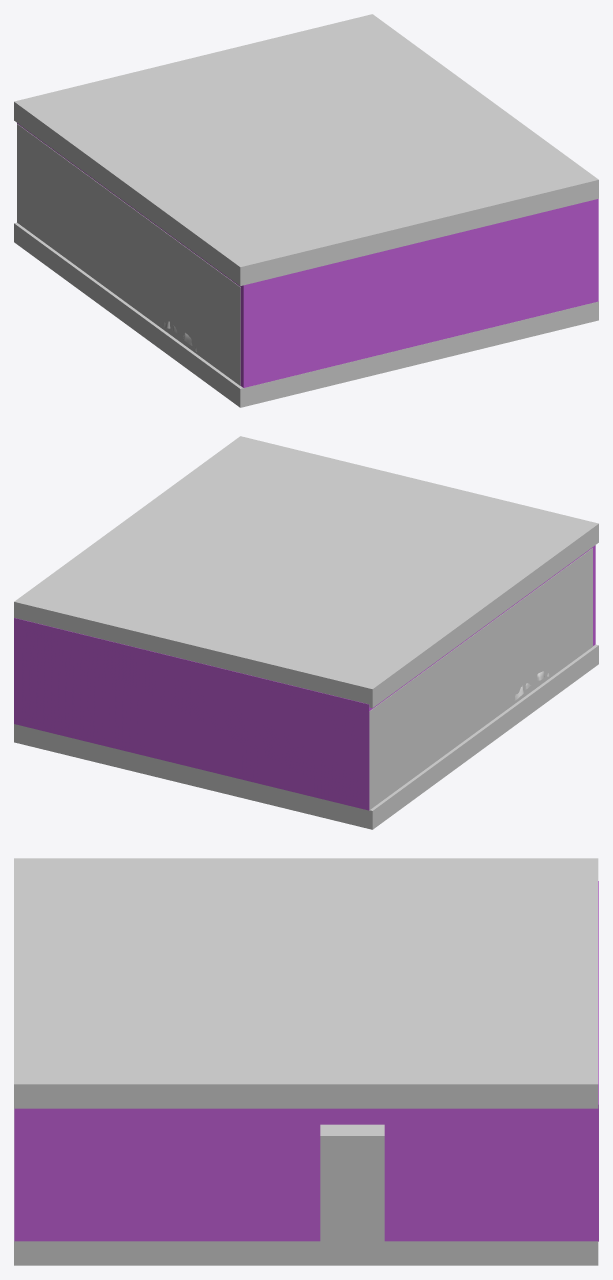
File: Celing.fbx
3 renders of one model, top to bottom at view 1: azimuth 30°, elevation 25°; view 2: azimuth 150°, elevation 25°; view 3: azimuth 270°, elevation 25°, orthographic. The views are drawn at different scales.
Visible parts, largest first — view 1: Roof, Wall, Walls, Floor Good; view 2: Roof, Wall, Walls, Floor Good; view 3: Roof, Wall, Floor Good, 2 Meter scale.
Part boxes in pixels (x1=…): Roof: x1=14, y1=14, x2=598, y2=285; Wall: x1=17, y1=123, x2=598, y2=387; Walls: x1=17, y1=124, x2=240, y2=385; Floor Good: x1=14, y1=222, x2=598, y2=407; Roof: x1=14, y1=436, x2=598, y2=707; Wall: x1=14, y1=545, x2=595, y2=810; Walls: x1=369, y1=548, x2=592, y2=809; Floor Good: x1=14, y1=644, x2=598, y2=829; Roof: x1=14, y1=858, x2=598, y2=1108; Wall: x1=14, y1=881, x2=598, y2=1241; Floor Good: x1=14, y1=1109, x2=598, y2=1265; 2 Meter scale: x1=320, y1=1124, x2=384, y2=1252.
Bounding box in the file's own units: 1745 × 623 × 1820.
